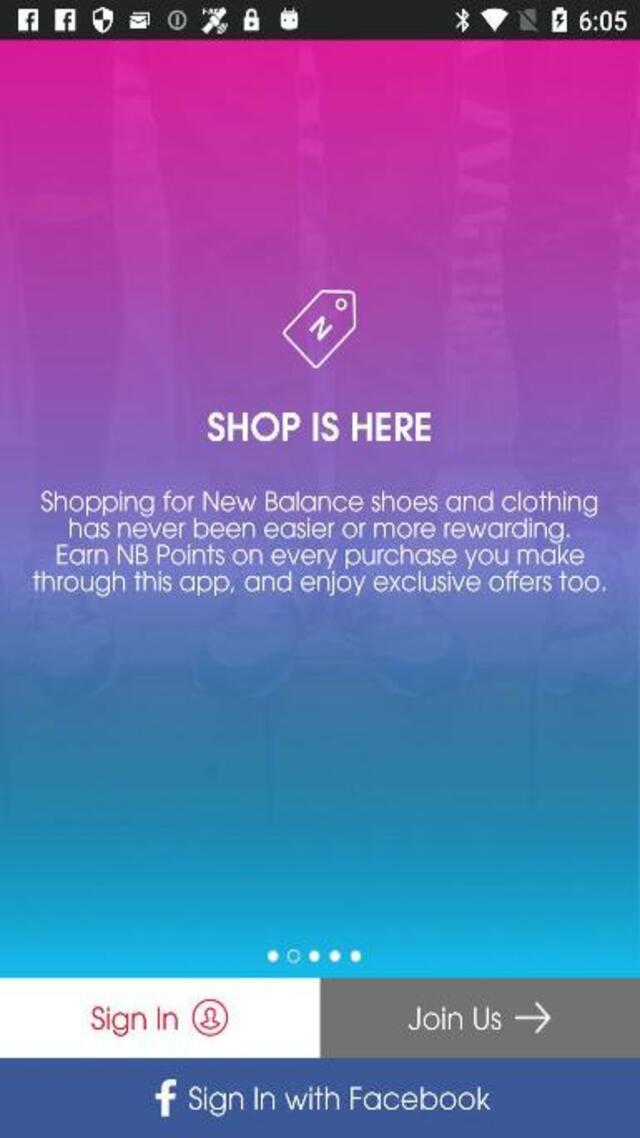Icon: (511, 997, 556, 1039), (188, 997, 232, 1039), (150, 1073, 180, 1119)
Image: (282, 289, 356, 369)
Text: (33, 488, 604, 518), (29, 571, 610, 598), (54, 544, 586, 567), (186, 1080, 497, 1118), (64, 519, 573, 542), (207, 412, 431, 442), (90, 1000, 181, 1038), (404, 1004, 506, 1032)
TextButton: (0, 1058, 638, 1136), (0, 978, 319, 1056), (321, 978, 640, 1056)
